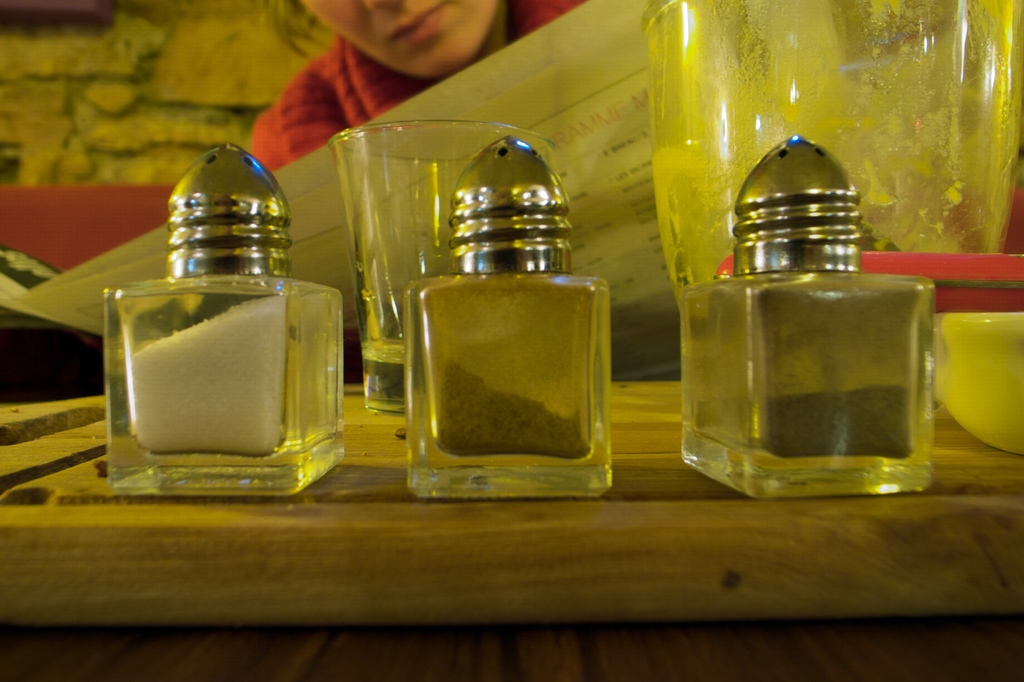face: (299, 0, 510, 74)
